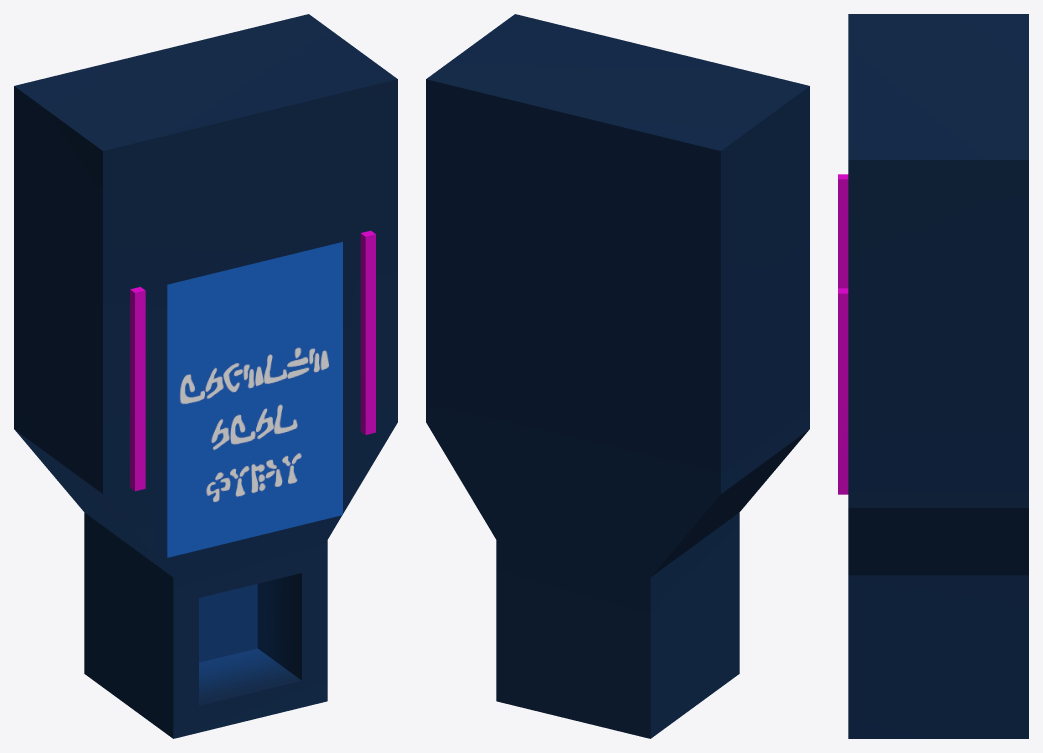
Rendered from Pub - drinkMachine.fbx.
The picture shows the model from 3 angles, left to right: view 1: azimuth 30°, elevation 25°; view 2: azimuth 150°, elevation 25°; view 3: azimuth 270°, elevation 25°; orthographic projection.
Visible parts, largest first — view 1: Pub_drinkMachine; view 2: Pub_drinkMachine; view 3: Pub_drinkMachine.
Part boxes in pixels (x1,y1,x2,y2): Pub_drinkMachine: (14, 14, 397, 738); Pub_drinkMachine: (426, 14, 809, 738); Pub_drinkMachine: (838, 14, 1028, 738).
Size of the model in its own units: 146 by 286 by 80.6.
